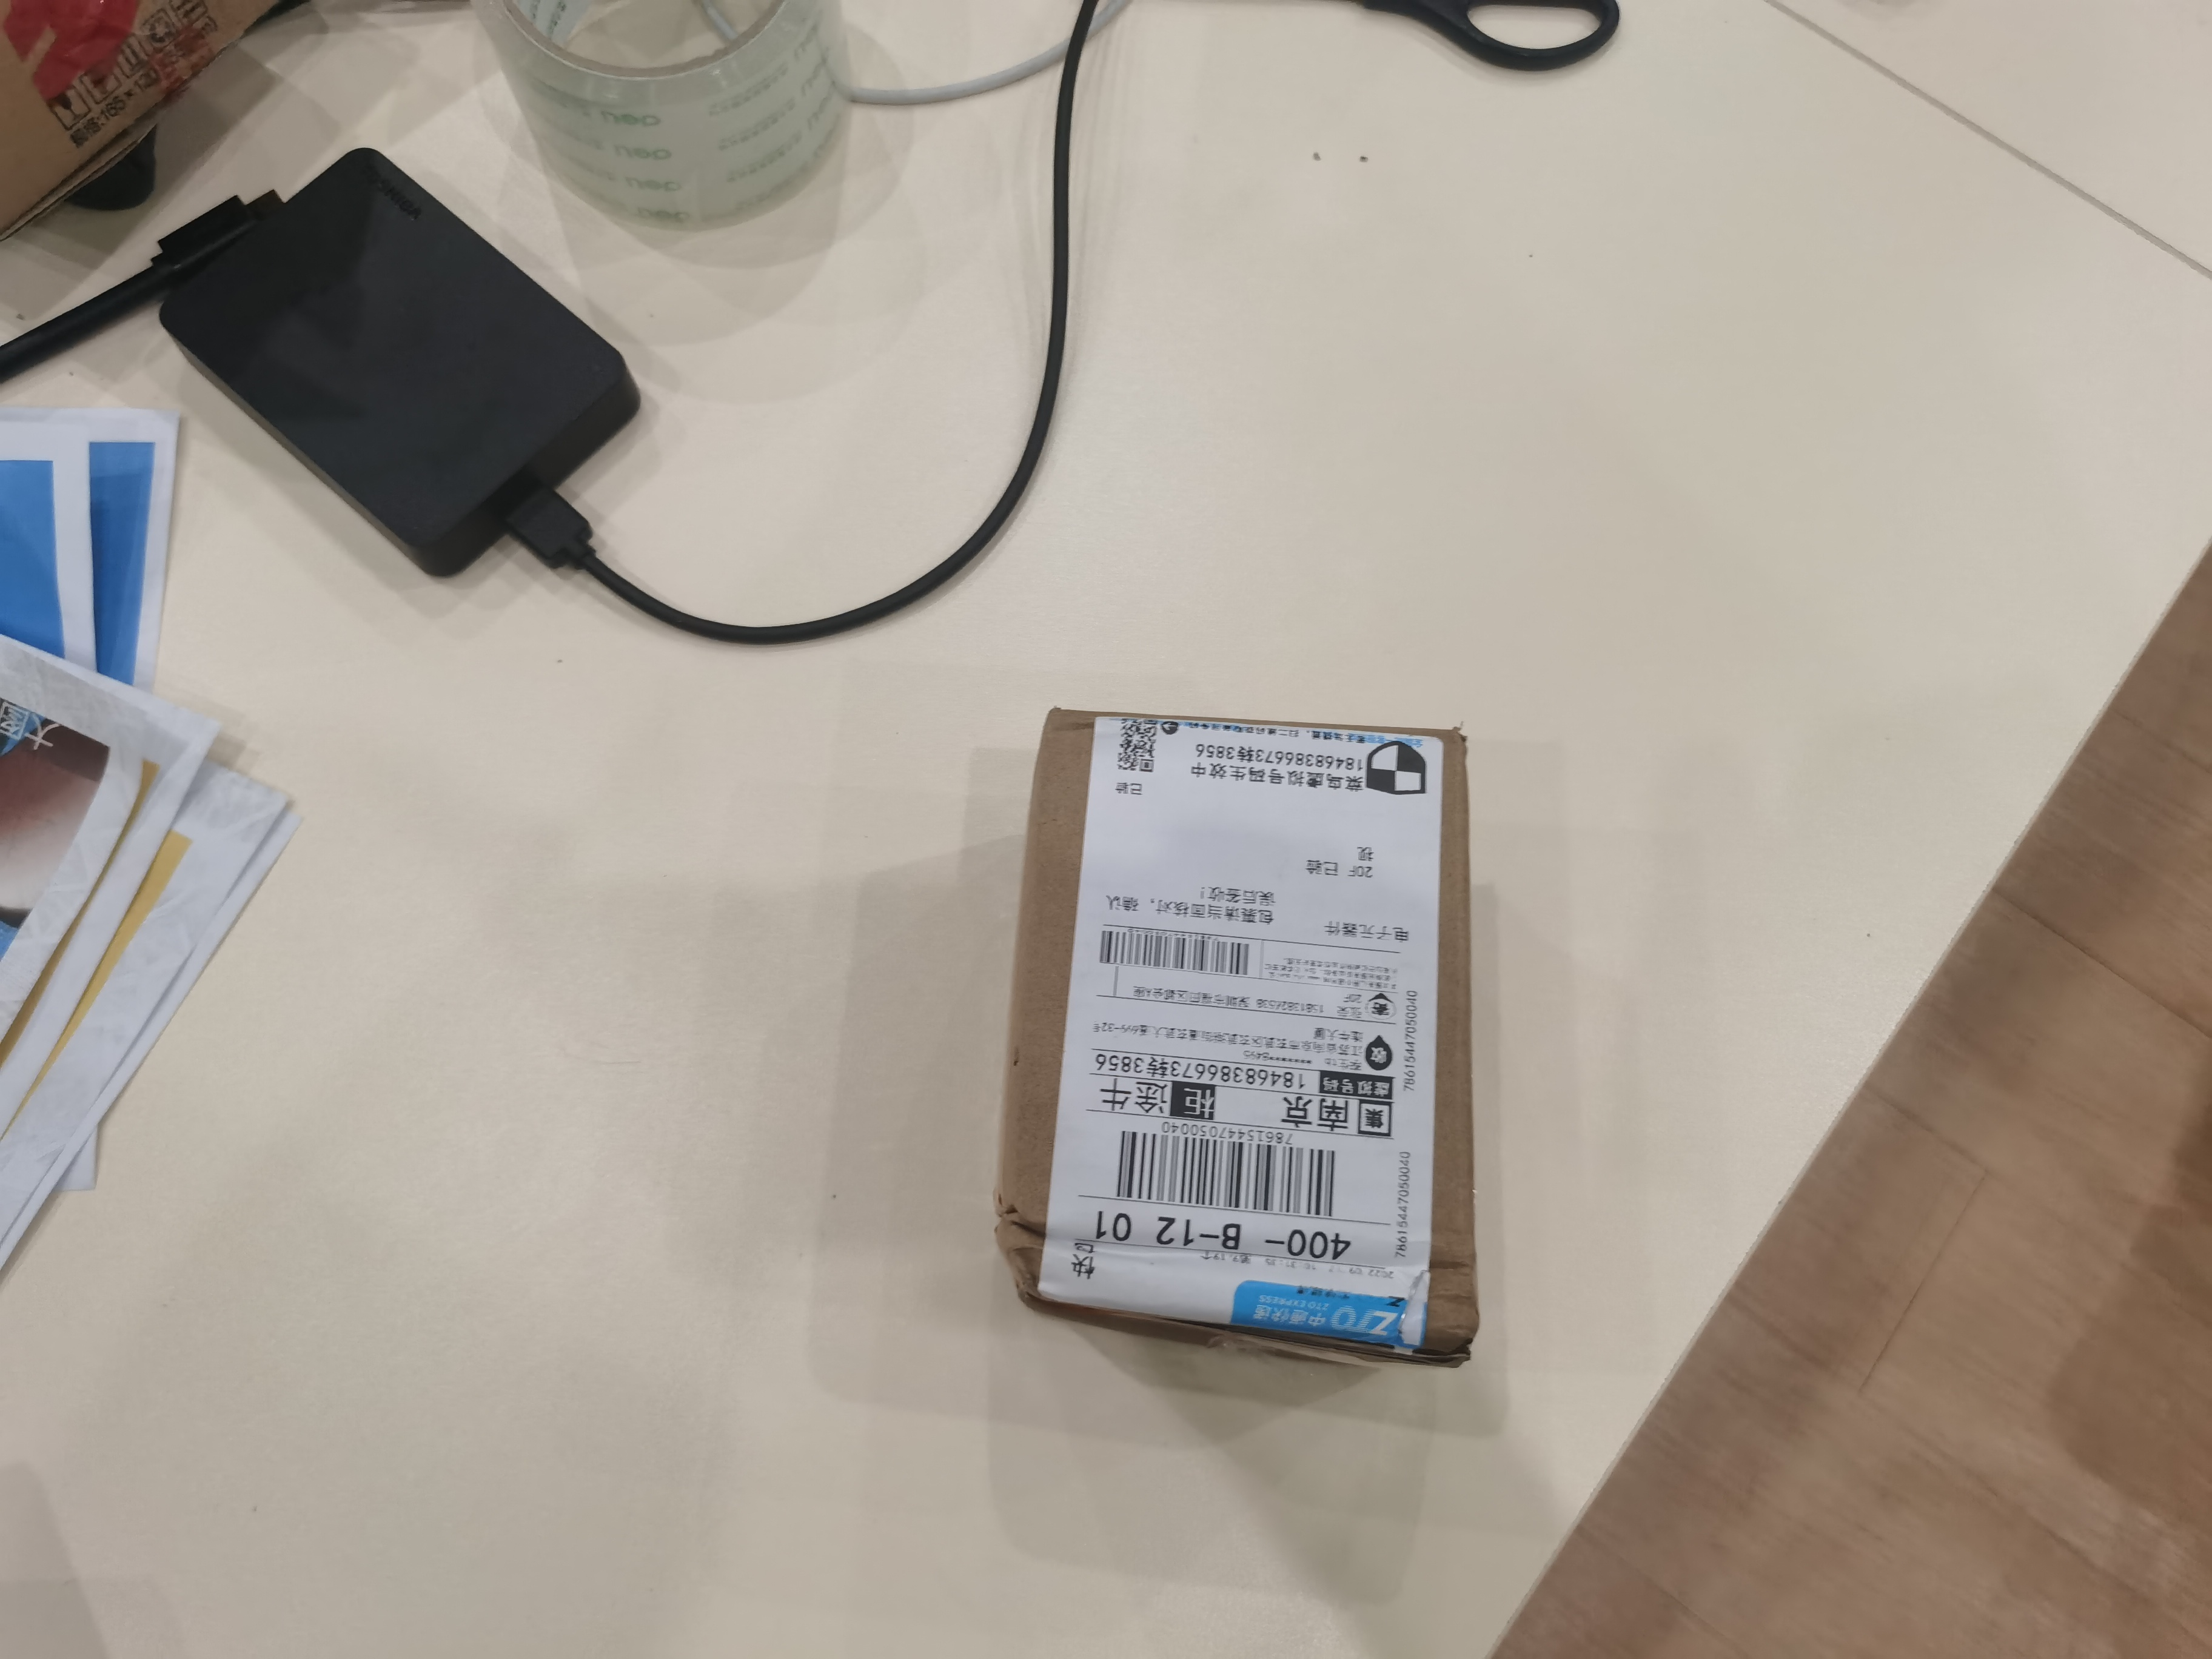box: (946, 653, 1562, 1431)
